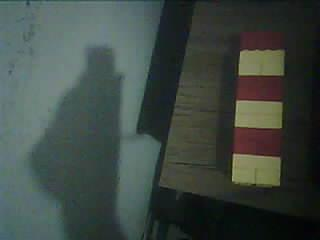lego: (231, 31, 286, 188)
